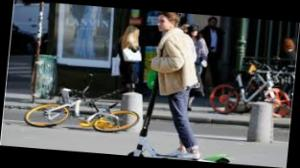nonhelmet: (125, 11, 246, 164)
